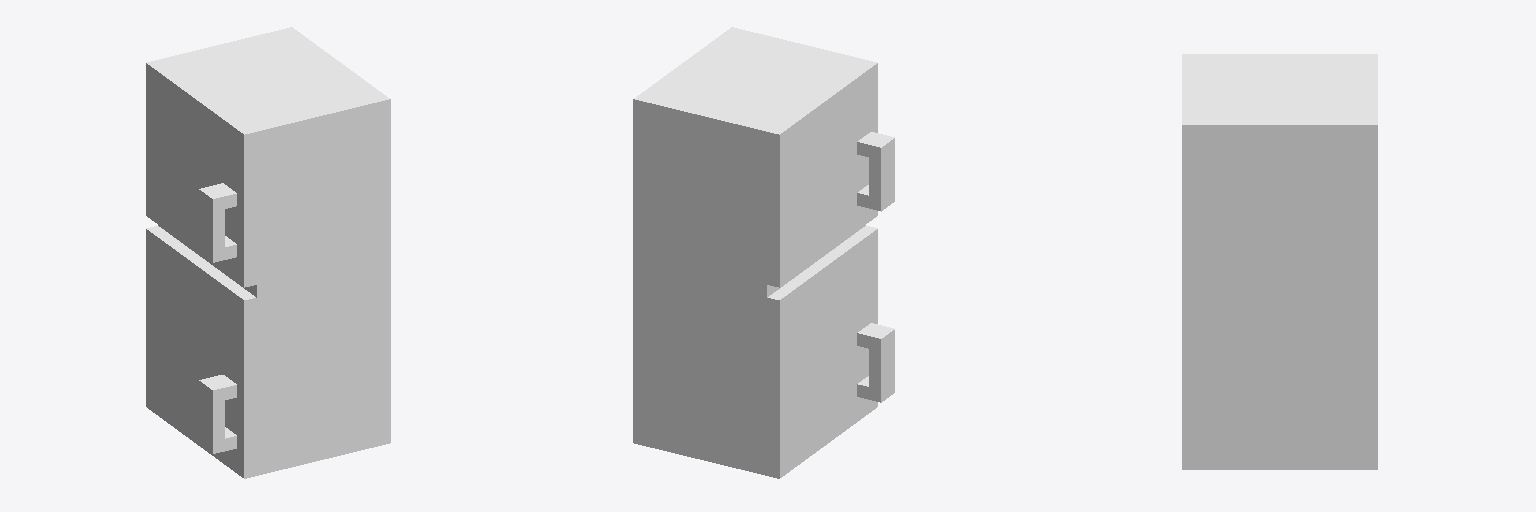
The model's file is classic:fridge.obj.
3 renders of one model, left to right at view 1: azimuth 30°, elevation 25°; view 2: azimuth 150°, elevation 25°; view 3: azimuth 270°, elevation 25°, orthographic.
Parts seen in each view (by area): view 1: classic:fridge; view 2: classic:fridge; view 3: classic:fridge.
Boxes of the visible parts, x1=… form: classic:fridge: x1=146, y1=27, x2=390, y2=478; classic:fridge: x1=633, y1=27, x2=894, y2=478; classic:fridge: x1=1182, y1=54, x2=1377, y2=469.
Bounding box in the file's own units: 14 × 27 × 14.